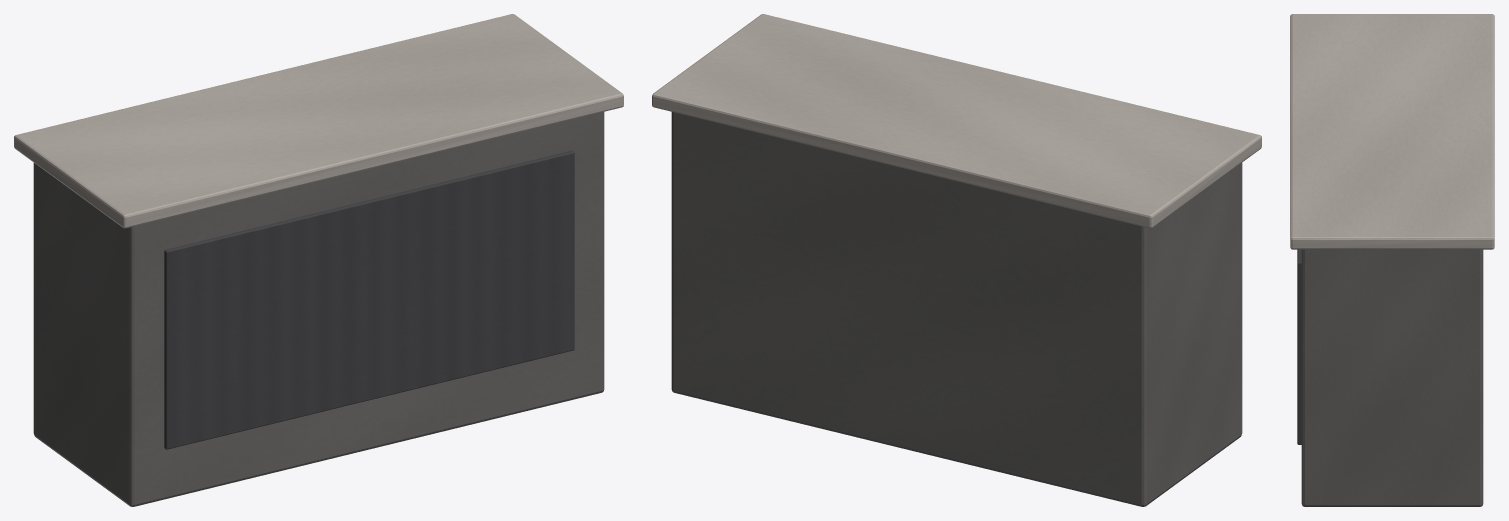
Rendered from security_desk.glb.
The picture shows the model from 3 angles, left to right: view 1: azimuth 30°, elevation 25°; view 2: azimuth 150°, elevation 25°; view 3: azimuth 270°, elevation 25°; orthographic projection. The views are drawn at different scales.
Parts seen in each view (by area): view 1: front_inset, counter_body, countertop; view 2: counter_body, countertop; view 3: countertop, counter_body, front_inset.
Part boxes in pixels (x1=…): front_inset: x1=164, y1=150, x2=574, y2=449; counter_body: x1=33, y1=112, x2=604, y2=506; countertop: x1=14, y1=14, x2=623, y2=228; counter_body: x1=671, y1=112, x2=1242, y2=506; countertop: x1=652, y1=14, x2=1261, y2=228; countertop: x1=1290, y1=14, x2=1494, y2=249; counter_body: x1=1301, y1=249, x2=1483, y2=506; front_inset: x1=1297, y1=249, x2=1301, y2=444.
Bounding box in the file's own units: 1.9 × 1.09 × 0.73.
Materials: 3 (3 with a texture image).
